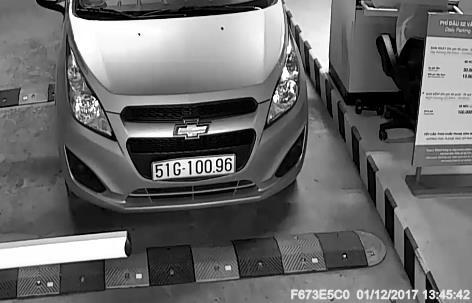License-plate: (153, 157, 238, 182)
